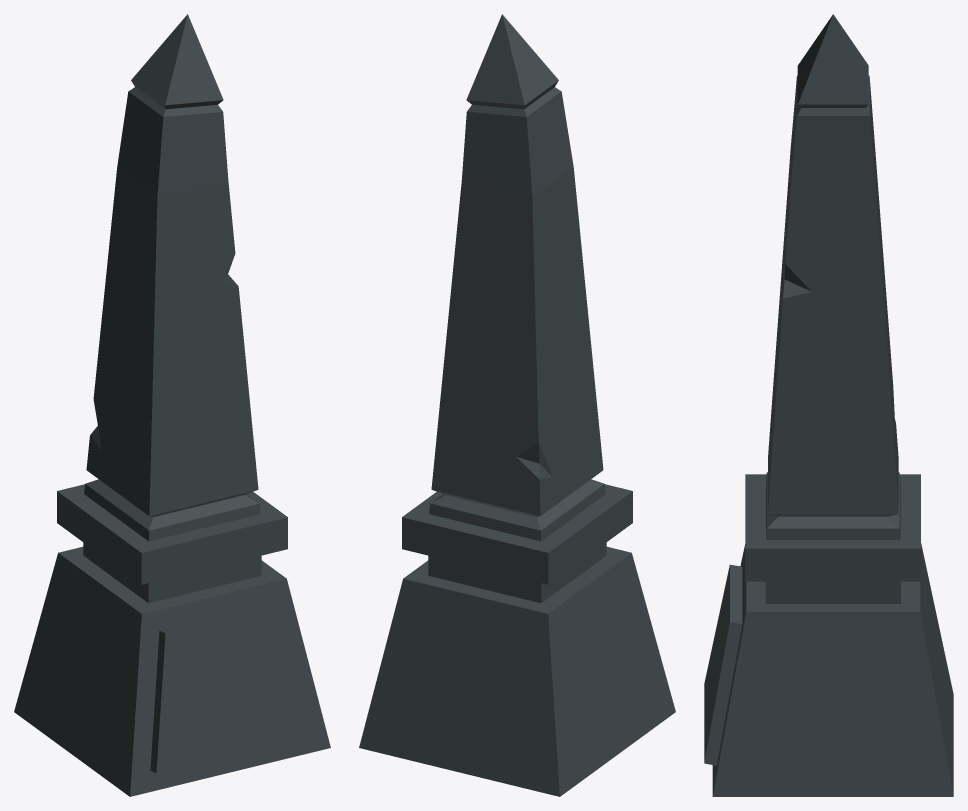
The model's file is tombstone_8.fbx.
3 views of the same model, side by side, from view 1: azimuth 30°, elevation 25°; view 2: azimuth 150°, elevation 25°; view 3: azimuth 270°, elevation 25° (orthographic). The views are drawn at different scales.
Parts seen in each view (by area): view 1: tombstone7; view 2: tombstone7; view 3: tombstone7.
Boxes of the visible parts, box(x1,y1,x2,y2) form: tombstone7: box(14, 14, 330, 796); tombstone7: box(359, 14, 675, 796); tombstone7: box(704, 14, 953, 796).
Size of the model in its own units: 0.7411 by 2.51 by 0.7675.
